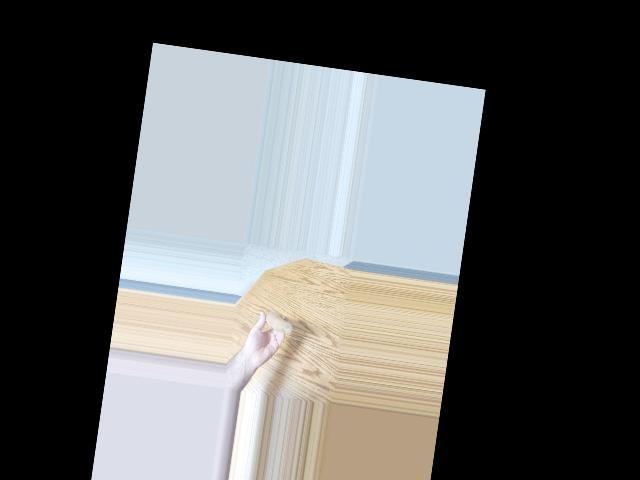sweet_potato: (261, 313, 293, 336)
